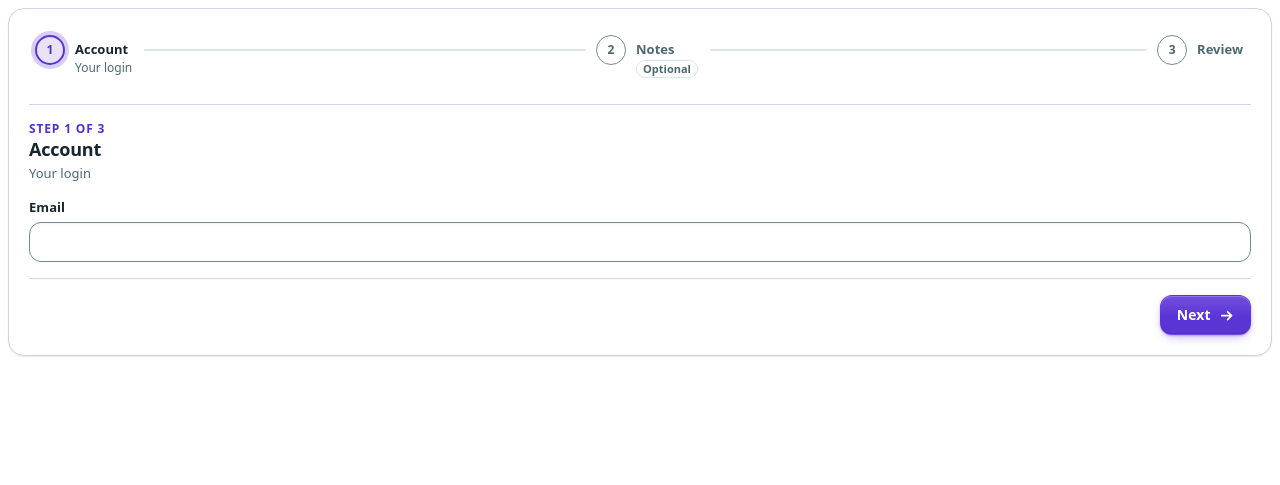
Scenario: Wizard › lets free navigation jump ahead and validates everything on Finish
Click the button named "Step 3 of 3: Review".
click(1201, 50)  # box [1151,29,1251,71]
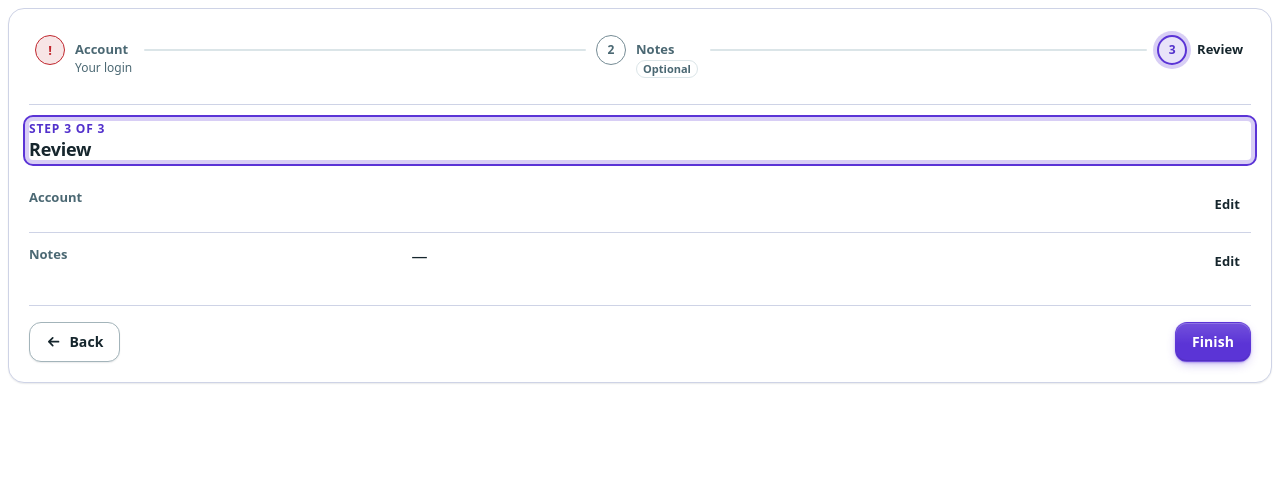
Click the button "Finish".
click(1213, 342)  # box [1175,322,1251,362]
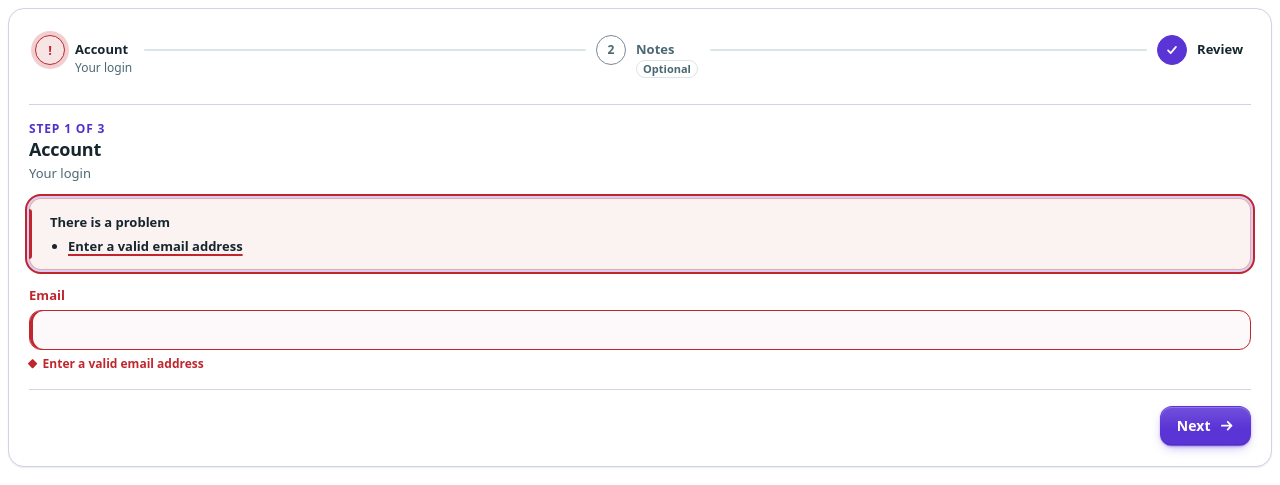
Expected: the heading "Step 1 of 3 Account" is shown, [29,120,105,161]
Expected: the text "There is a problem" is shown, [50,213,170,231]
